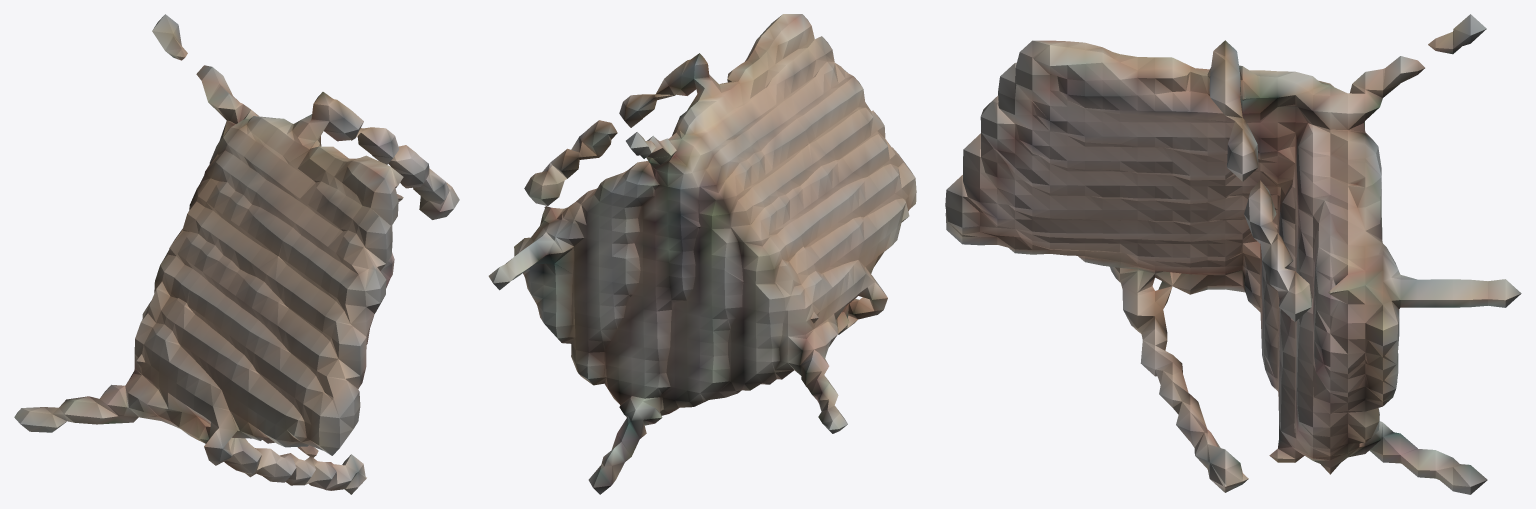
Rendered from neural-mesh.glb.
The picture shows the model from 3 angles, left to right: view 1: azimuth 30°, elevation 25°; view 2: azimuth 150°, elevation 25°; view 3: azimuth 270°, elevation 25°; orthographic projection. The views are drawn at different scales.
Parts seen in each view (by area): view 1: world; view 2: world; view 3: world.
Boxes of the visible parts, x1,y1,x2,y2 form: world: (14, 14, 459, 494); world: (488, 14, 916, 494); world: (945, 14, 1521, 494).
Size of the model in its own units: 0.79 by 0.7977 by 0.9082.
